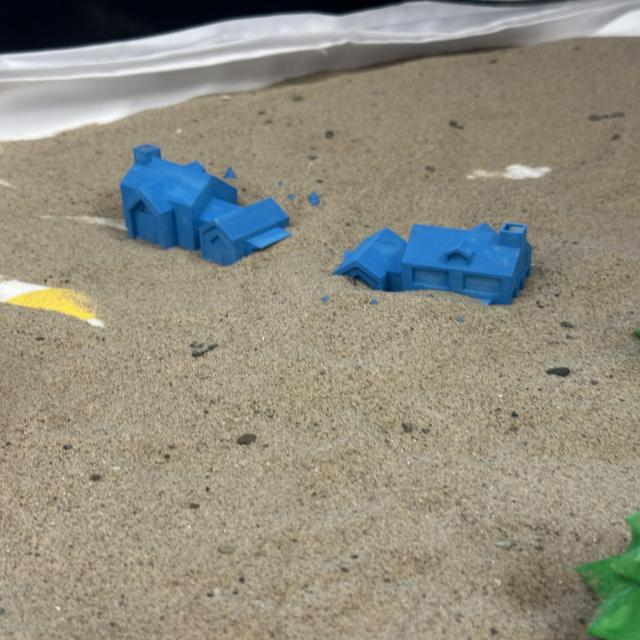house: (116, 135, 326, 267), (327, 224, 533, 330)
tree: (572, 510, 638, 639)
